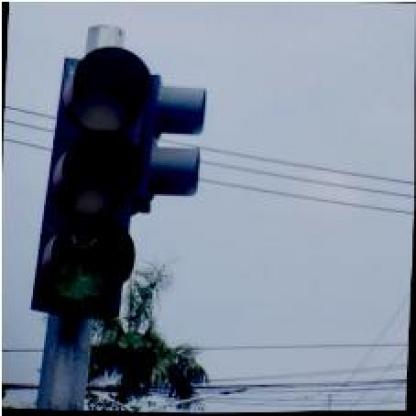green: (29, 43, 154, 316)
